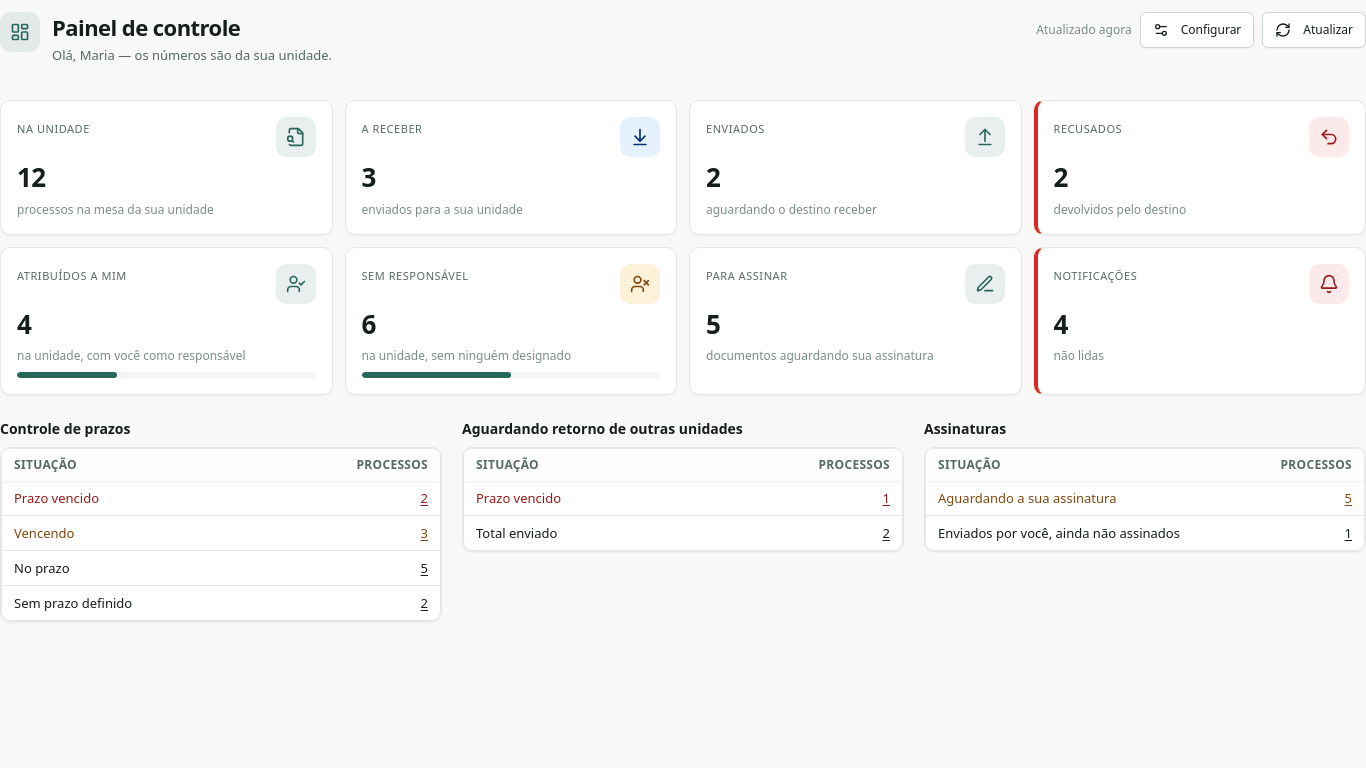
Test case: painel de controle — mais perto do SEI › armazenamento quebrado ou lixo não derrubam a tela
# Salvar sem armazenamento ainda muda a tela, só não sobrevive ao recarregar.
Click the button "Configurar": (1197, 30) [1140,12,1254,48]
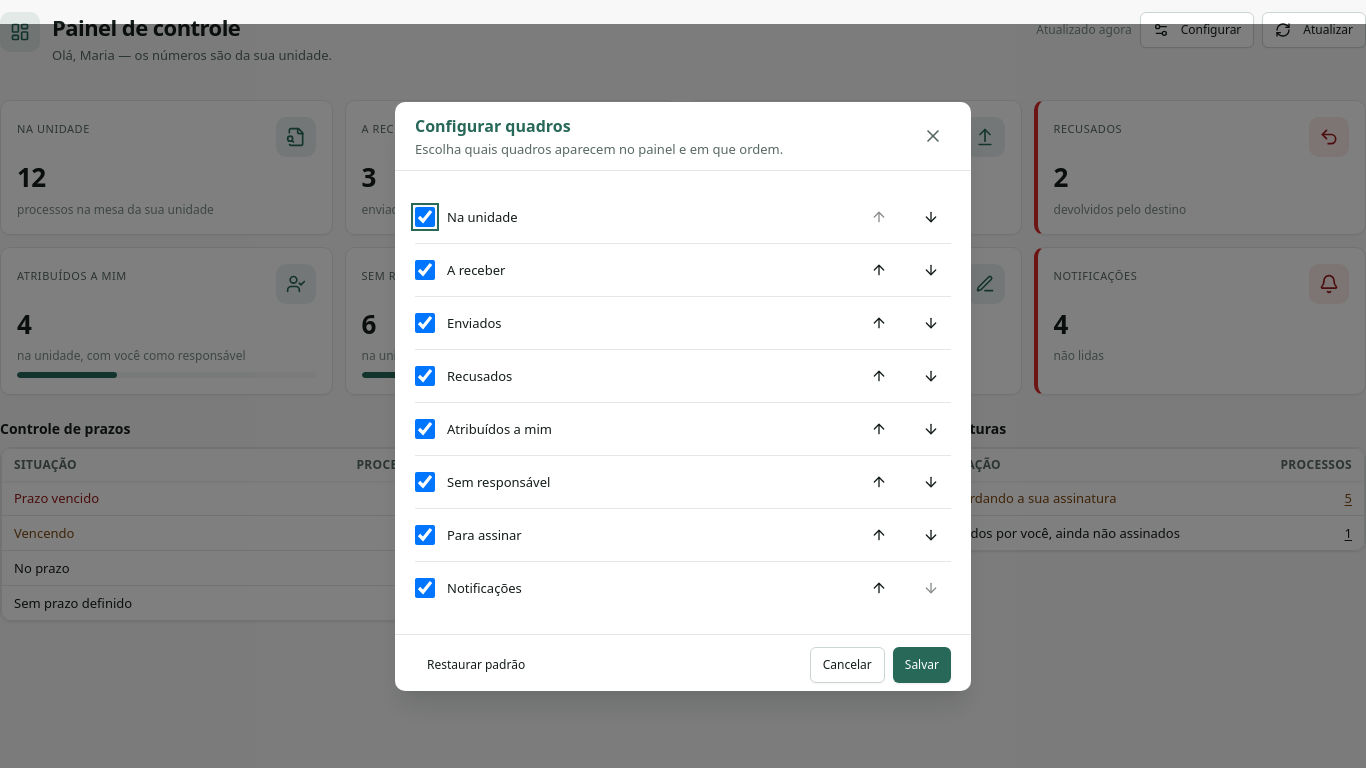
Click the checkbox labelled "Recusados": (425, 376) [415,366,435,386]
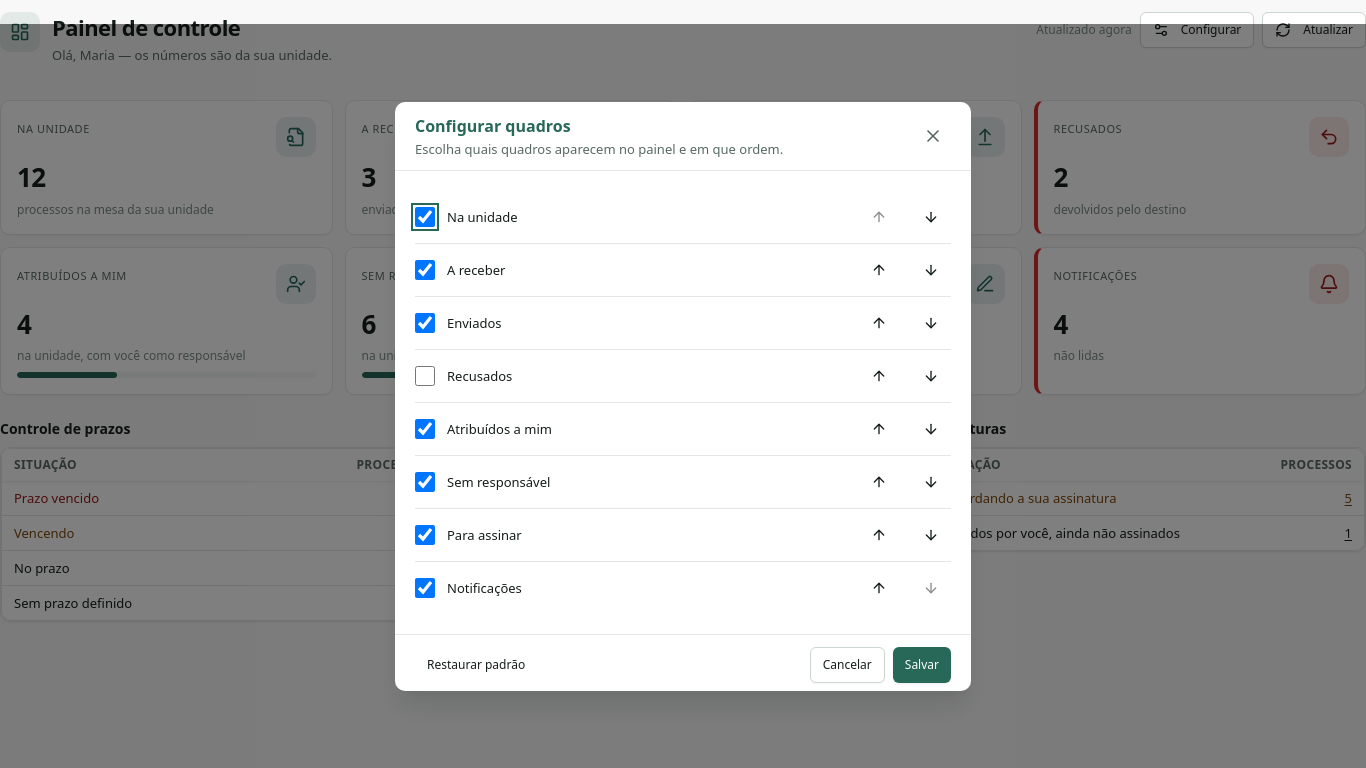
Click the button "Salvar": (922, 664) [893,646,951,682]
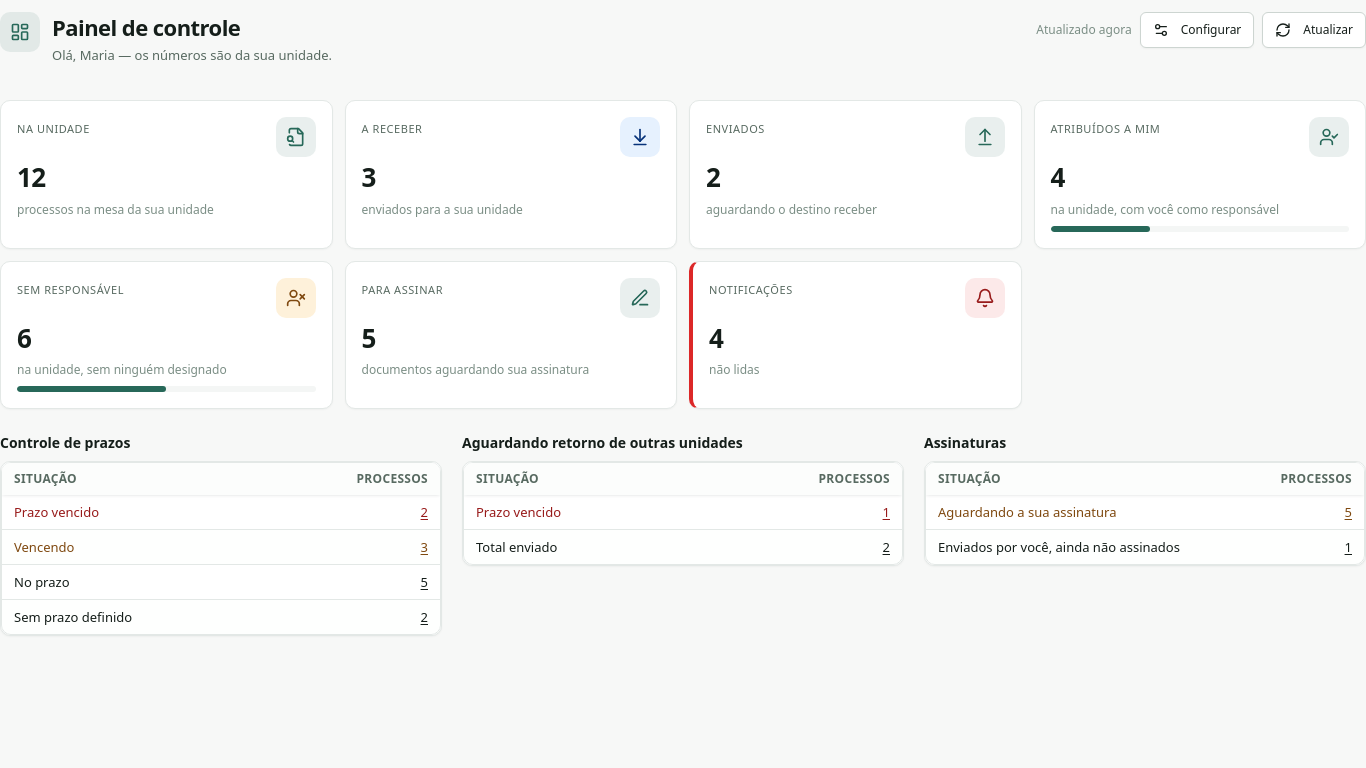
Check: the link "Recusados" is gone
